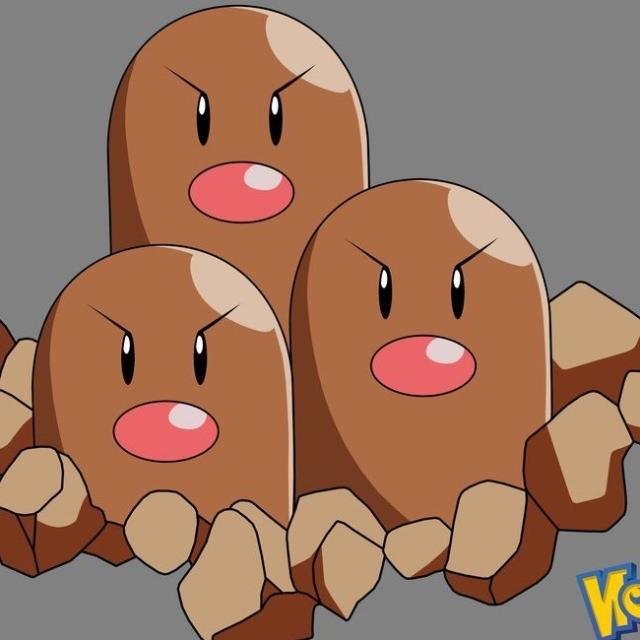Dugtrio: (27, 0, 557, 554)
